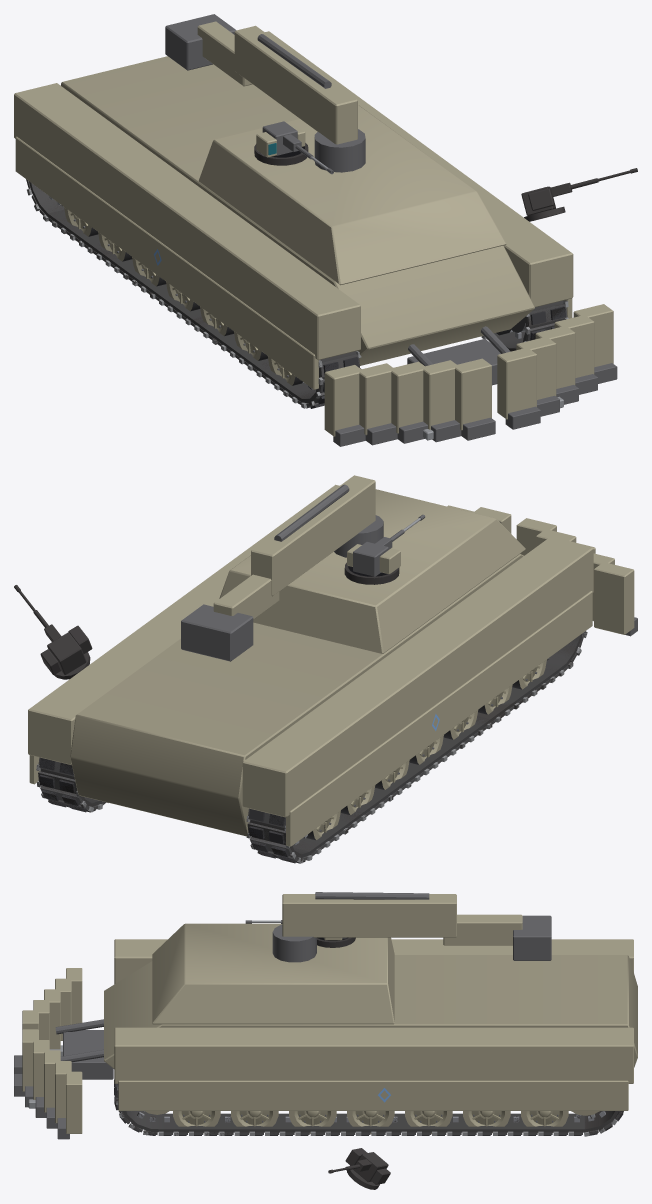
Rendered from mineClearer__kodiak.glb.
3 views of the same model, one above another, from view 1: azimuth 30°, elevation 25°; view 2: azimuth 150°, elevation 25°; view 3: azimuth 270°, elevation 25° (orthographic). The views are drawn at different scales.
Parts seen in each view (by area): view 1: Hull_Mesh, Track_L_Mesh, Wreck, Track_R_Mesh, Turret_Mesh; view 2: Hull_Mesh, Track_L_Mesh, Wreck, Track_R_Mesh, Turret_Mesh; view 3: Hull_Mesh, Track_R_Mesh, Wreck, Wheel_R3_Mesh, Wheel_R4_Mesh, Wheel_R6_Mesh, Wheel_R1_Mesh, Wheel_R2_Mesh, Wheel_R5_Mesh, Wheel_R0_Mesh.
Boxes of the visible parts, x1,y1,x2,y2 form: Hull_Mesh: [14, 14, 617, 446]; Track_L_Mesh: [26, 179, 361, 408]; Wreck: [27, 143, 637, 408]; Track_R_Mesh: [481, 300, 568, 349]; Turret_Mesh: [256, 121, 305, 157]; Hull_Mesh: [28, 475, 637, 846]; Track_L_Mesh: [246, 631, 587, 863]; Wreck: [14, 562, 587, 862]; Track_R_Mesh: [36, 757, 108, 812]; Turret_Mesh: [347, 542, 400, 576]; Hull_Mesh: [14, 892, 637, 1139]; Track_R_Mesh: [114, 1080, 623, 1136]; Wreck: [114, 937, 623, 1189]; Wheel_R3_Mesh: [347, 1111, 394, 1134]; Wheel_R4_Mesh: [289, 1111, 336, 1133]; Wheel_R6_Mesh: [173, 1111, 220, 1133]; Wheel_R1_Mesh: [463, 1111, 510, 1133]; Wheel_R2_Mesh: [405, 1111, 452, 1133]; Wheel_R5_Mesh: [231, 1111, 278, 1133]; Wheel_R0_Mesh: [521, 1111, 568, 1126].
Size of what is drawn, in the model's own units: 6.55 by 3.09 by 9.04.
